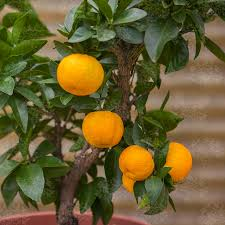orange: (55, 54, 104, 97), (81, 109, 124, 147), (159, 140, 194, 179), (119, 144, 154, 178)
